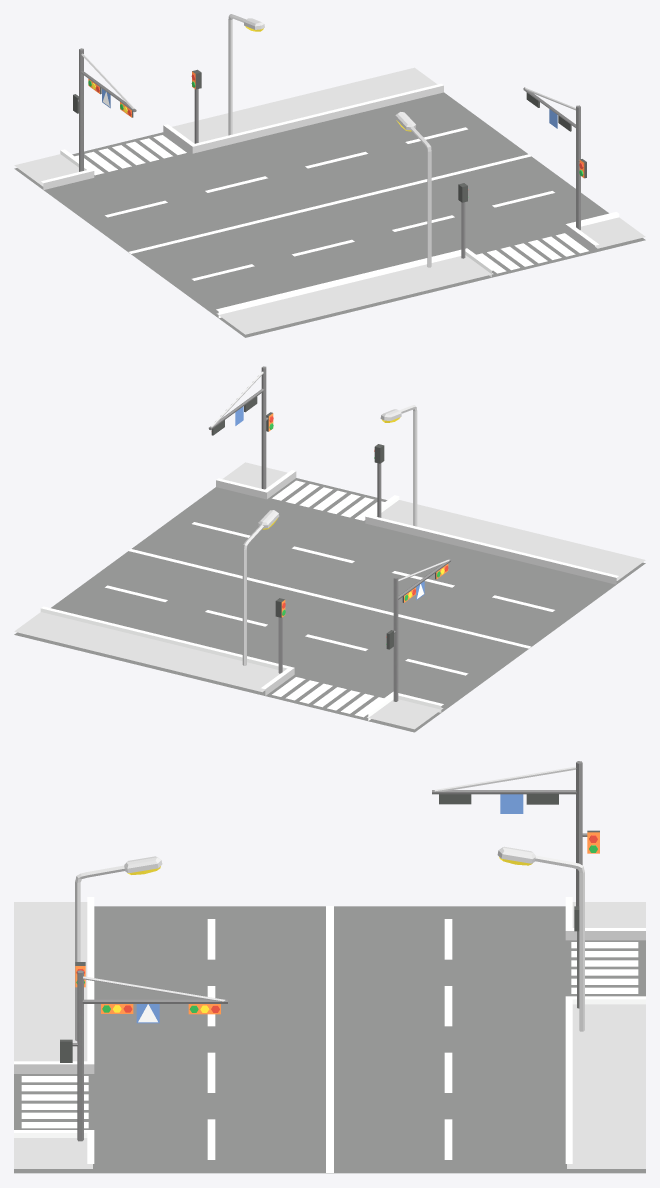
File: road_tile_2x2_7.glb
3 renders of one model, top to bottom at view 1: azimuth 30°, elevation 25°; view 2: azimuth 150°, elevation 25°; view 3: azimuth 270°, elevation 25°, orthographic. The views are drawn at different scales.
Parts seen in each view (by area): view 1: road_tile_2x2_7(Clone); view 2: road_tile_2x2_7(Clone); view 3: road_tile_2x2_7(Clone).
Part boxes in pixels (x1,y1,x2,y2): road_tile_2x2_7(Clone): (14,14,645,337); road_tile_2x2_7(Clone): (14,366,645,732); road_tile_2x2_7(Clone): (14,761,645,1173).
Bounding box in the file's own units: 16 × 5.25 × 16.
Materials: 1 (1 with a texture image).
